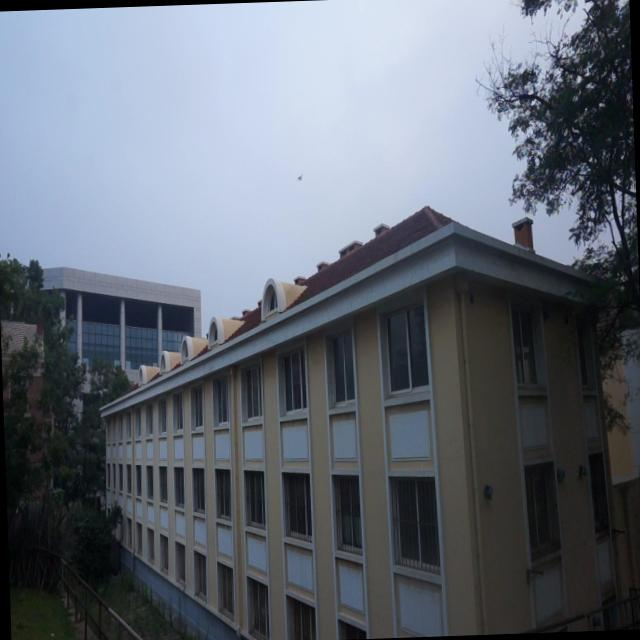drone: (295, 164, 305, 187)
